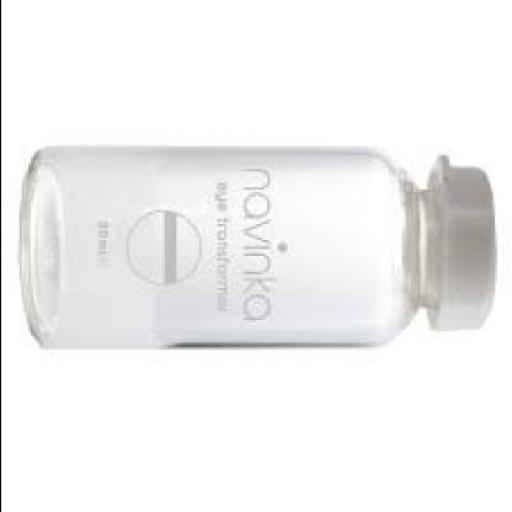glass: (25, 146, 430, 350)
plastic: (427, 153, 499, 329)
